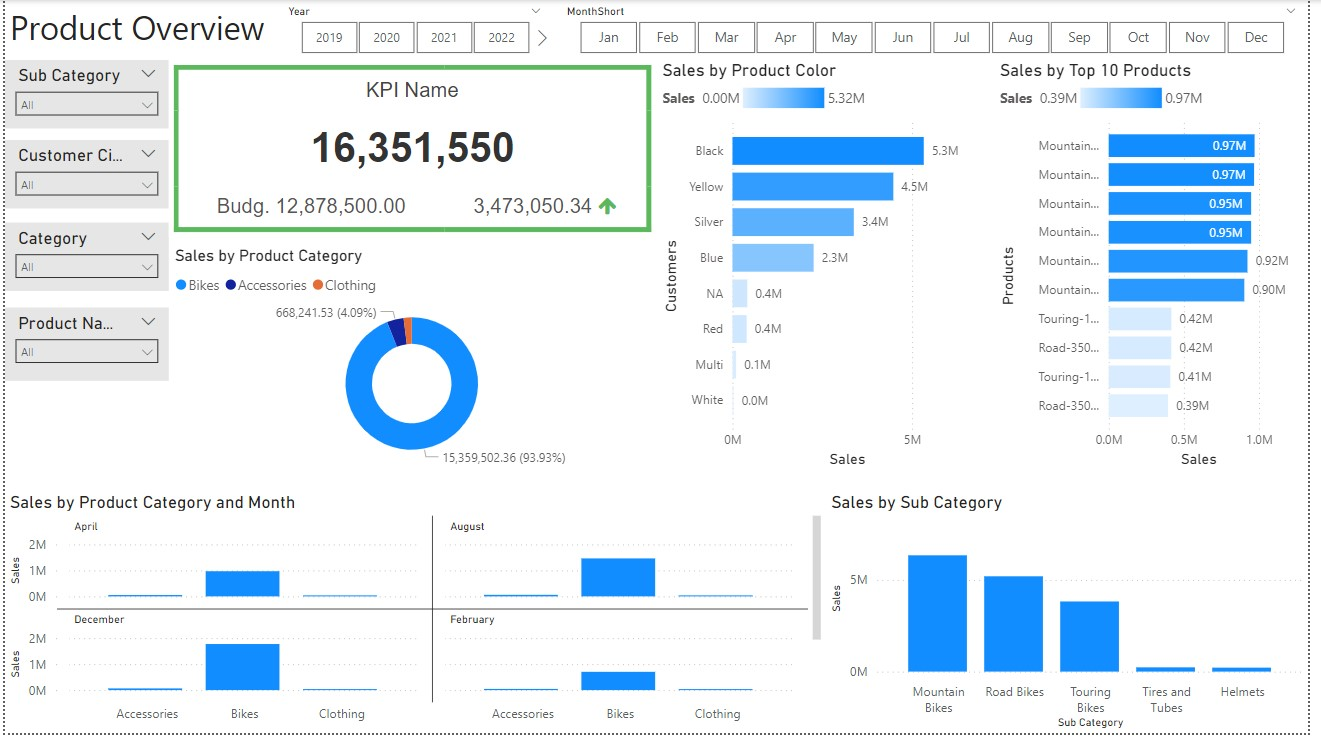

This screenshot's page, from the dashboard's own definition file:
{"tool":"powerbi","page":{"name":"Product Overview","canvas":[1280,720],"ordinal":2},"visuals":[{"type":"textbox","box":[0,0,1279.8,58.9],"z":0},{"type":"slicer","fields":{"Values":["DIM_Product.Sub Category"]},"box":[0,58.9,160.7,67.5],"z":1},{"type":"slicer","fields":{"Values":["DIM_Customer.Customer City"]},"box":[0,137.4,160.7,67.5],"z":2},{"type":"slicer","fields":{"Values":["DIM_Product.Product Category"]},"box":[0,218.4,160.7,67.5],"z":3},{"type":"slicer","fields":{"Values":["DIM_Product.Product Name"]},"box":[0,301.8,160.7,72.4],"z":4},{"type":"slicer","fields":{"Values":["DIM_Calendar.Year"]},"box":[265,0,273.6,58.9],"z":5},{"type":"slicer","fields":{"Values":["DIM_Calendar.MonthShort"]},"box":[538.7,0,741.1,58.9],"z":6},{"type":"BBED0A4D4D8D44CE93CF2DAFADEE466C","fields":{"actual":["FACT_InternetSales.Sales"],"target2":["Key Measures.Sales - Budget Amount"],"target1":["Key Measures.Budget Amount"]},"box":[161.2,58.8,478.8,173.8],"z":7},{"type":"donutChart","fields":{"Category":["DIM_Product.Product Category"],"Y":["Key Measures.Sales"]},"box":[162.5,241.2,475,222.5],"z":8},{"type":"barChart","title":"Sales by Product Color","fields":{"Y":["Key Measures.Sales"],"Category":["DIM_Product.Product Color"]},"box":[640,58.8,313.8,405],"z":10},{"type":"barChart","title":"Sales by Top 10 Products","fields":{"Y":["Key Measures.Sales"],"Category":["DIM_Product.Product Name"]},"box":[971.8,58.9,308,404.9],"z":11},{"type":"clusteredColumnChart","fields":{"Category":["DIM_Product.Sub Category"],"Y":["Key Measures.Sales"]},"box":[806.1,482.2,473.6,238],"z":12},{"type":"clusteredColumnChart","fields":{"Y":["Key Measures.Sales"],"Category":["DIM_Product.Product Category"],"Rows":["DIM_Calendar.Month"]},"box":[0,482.2,806.1,238],"z":13}]}

Visuals, with their boxes in screenshot pixels (x1, y1, x2, y2), scaled from the page's 1280x720 canvas onto the 1321x739 screenshot:
textbox: crop(0, 0, 1320, 60)
slicer - DIM_Product.Sub Category: crop(0, 60, 166, 130)
slicer - DIM_Customer.Customer City: crop(0, 141, 166, 210)
slicer - DIM_Product.Product Category: crop(0, 224, 166, 293)
slicer - DIM_Product.Product Name: crop(0, 310, 166, 384)
slicer - DIM_Calendar.Year: crop(273, 0, 556, 60)
slicer - DIM_Calendar.MonthShort: crop(556, 0, 1320, 60)
BBED0A4D4D8D44CE93CF2DAFADEE466C - FACT_InternetSales.Sales x Key Measures.Sales - Budget Amount: crop(166, 60, 660, 239)
donutChart - DIM_Product.Product Category x Key Measures.Sales: crop(168, 248, 658, 476)
"Sales by Product Color" barChart: crop(660, 60, 984, 476)
"Sales by Top 10 Products" barChart: crop(1003, 60, 1320, 476)
clusteredColumnChart - DIM_Product.Sub Category x Key Measures.Sales: crop(832, 495, 1320, 738)
clusteredColumnChart - Key Measures.Sales x DIM_Product.Product Category: crop(0, 495, 832, 738)
